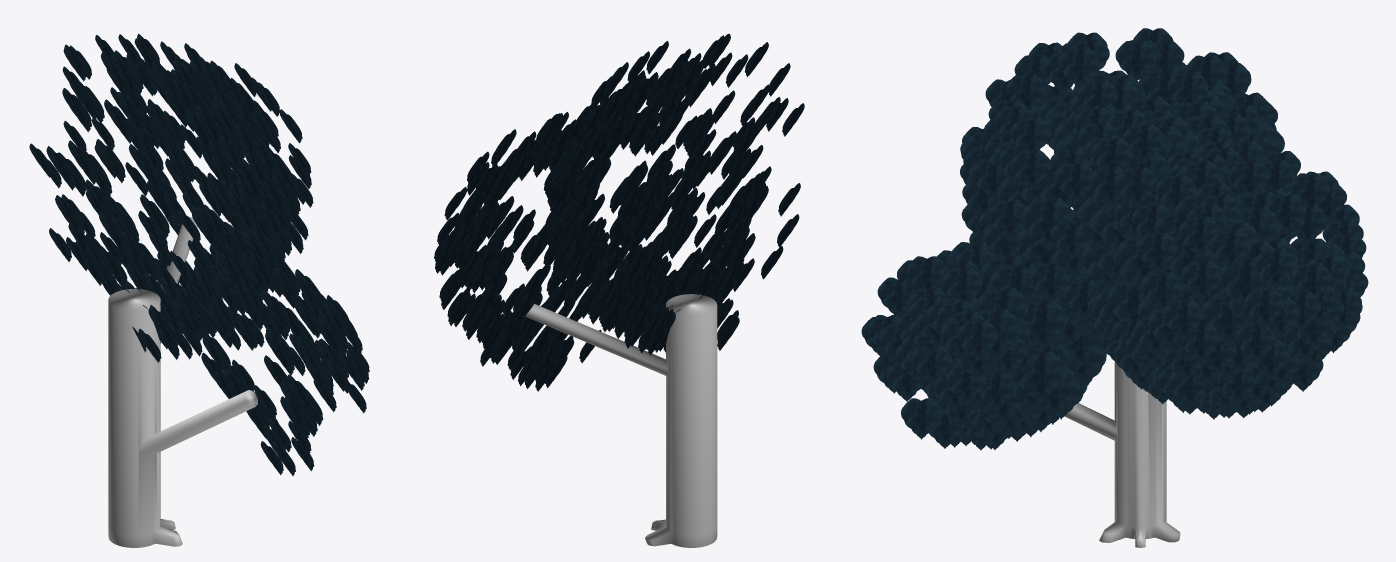
Rendered from tree backup.fbx.
3 renders of one model, left to right at view 1: azimuth 30°, elevation 25°; view 2: azimuth 150°, elevation 25°; view 3: azimuth 270°, elevation 25°, orthographic. The views are drawn at different scales.
Visible parts, largest first — view 1: Plane.001, Cylinder; view 2: Plane.001, Cylinder; view 3: Plane.001, Cylinder.
Part boxes in pixels (box(x1,y1,x2,y2)): Plane.001: box(29, 33, 369, 475); Cylinder: box(108, 217, 257, 547); Plane.001: box(434, 33, 804, 391); Cylinder: box(525, 294, 717, 547); Plane.001: box(861, 28, 1368, 450); Cylinder: box(1064, 361, 1180, 547).
Size of the model in its own units: 1.05 by 2.13 by 2.05.
